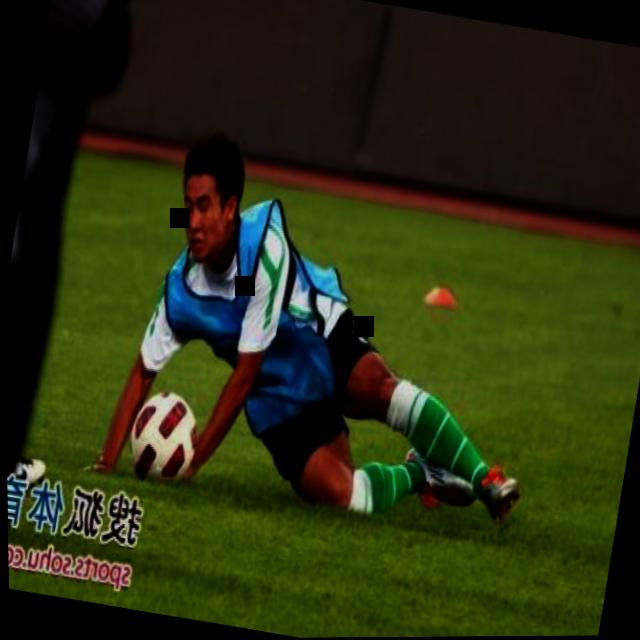Fall-Detected: (83, 91, 584, 556)
